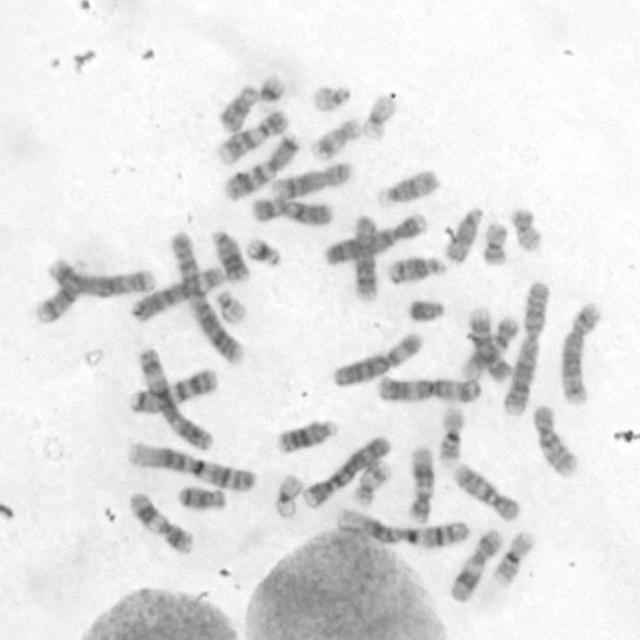A1: (127, 440, 260, 494), (334, 504, 473, 549)
A2: (169, 228, 248, 367), (499, 276, 550, 421)
A3: (137, 347, 215, 451), (377, 372, 484, 405)
B4: (301, 433, 390, 512), (322, 210, 427, 270)
B5: (557, 300, 602, 408), (46, 259, 157, 298)
C10: (449, 461, 522, 524), (531, 402, 582, 482)
C11: (446, 525, 506, 604), (126, 489, 193, 556)
C12: (460, 312, 520, 380), (408, 442, 436, 525)
C6: (130, 265, 226, 325), (331, 332, 422, 388)
C7: (222, 131, 300, 202), (128, 366, 218, 417)
C8: (270, 158, 354, 202), (350, 214, 378, 304)
C9: (215, 108, 289, 168), (465, 304, 516, 383)
D13: (276, 415, 341, 454), (209, 224, 250, 284)
D14: (33, 255, 93, 326), (386, 250, 449, 286)
D15: (378, 168, 442, 207), (443, 206, 486, 264)
E16: (489, 527, 537, 589), (436, 403, 466, 470)
E17: (308, 116, 363, 162), (350, 458, 393, 510)
E18: (218, 82, 259, 134), (176, 482, 230, 513)
F19: (272, 471, 307, 522), (362, 95, 396, 142)
F20: (510, 204, 544, 254), (481, 220, 508, 266)
G21: (256, 74, 288, 115), (246, 235, 282, 268)
G22: (215, 289, 250, 328), (309, 84, 352, 113)
X: (247, 196, 336, 230)
Y: (407, 297, 447, 324)
